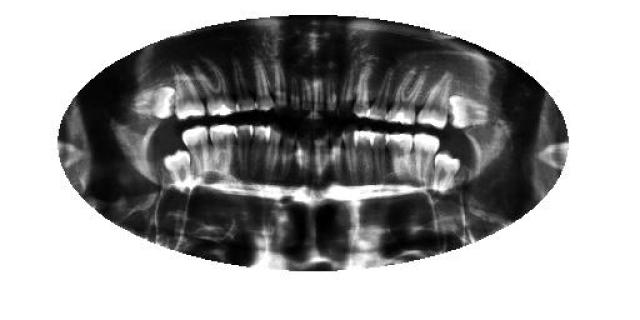Restorations: (130, 82, 175, 119), (450, 94, 486, 128)
